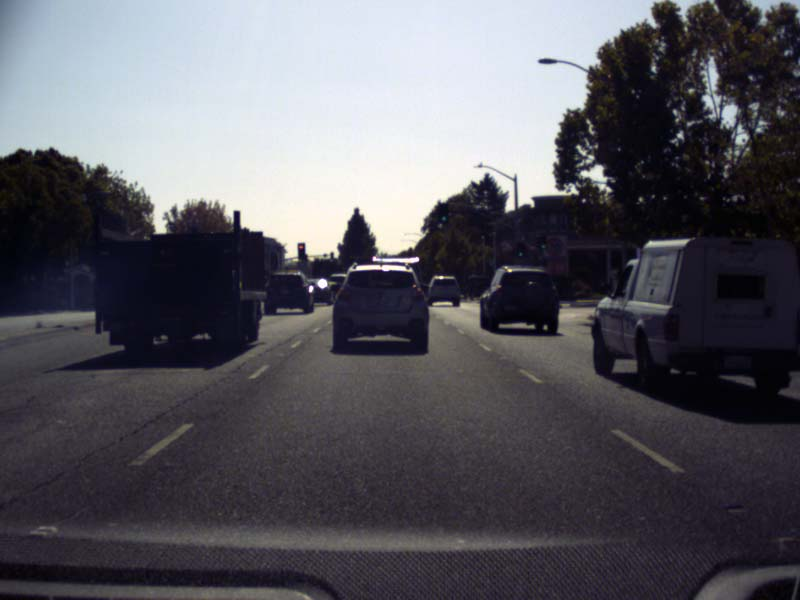Green: (438, 204, 449, 224), (535, 235, 546, 252), (516, 241, 525, 258)
Red: (298, 243, 304, 260)
